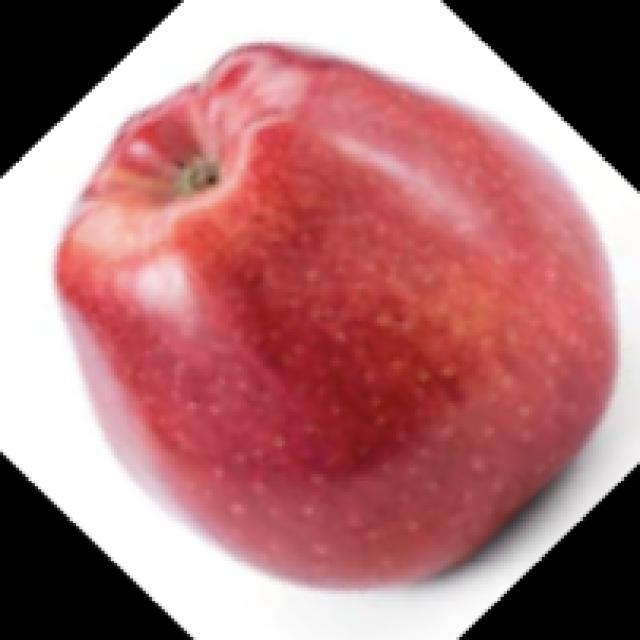Fresh Apple: (49, 35, 619, 592)
